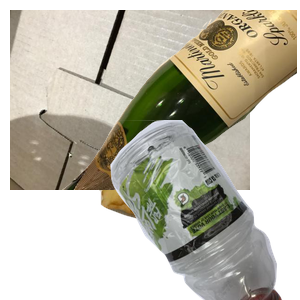cardboard: (10, 10, 250, 190)
glass: (60, 10, 300, 190)
plastic: (73, 120, 300, 300)
trash: (96, 145, 295, 300)
